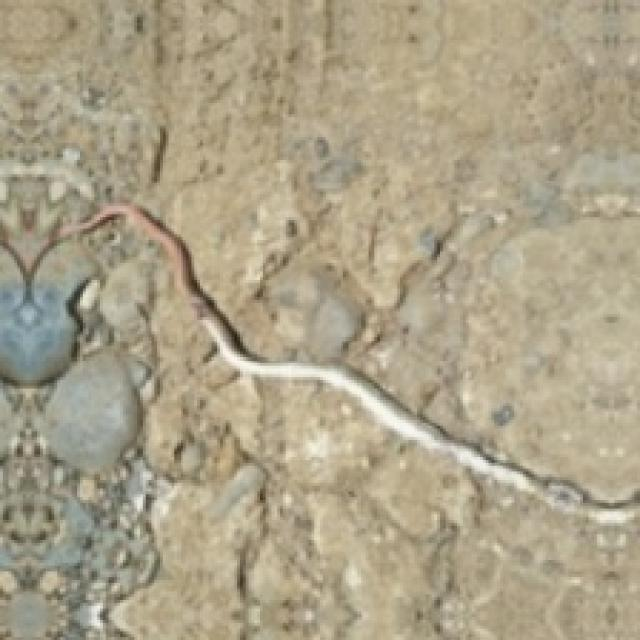reddish rat snake: (49, 203, 637, 520)
